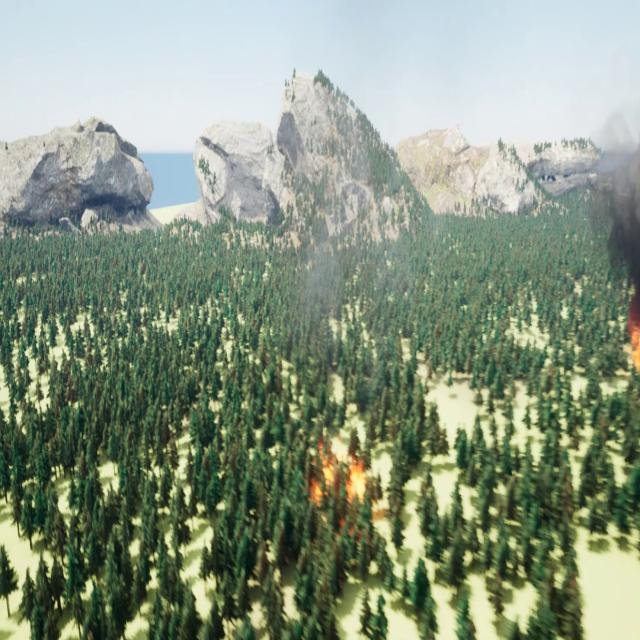fire: (311, 435, 377, 539), (626, 309, 640, 367)
smoke: (295, 108, 372, 340), (590, 98, 640, 300)
